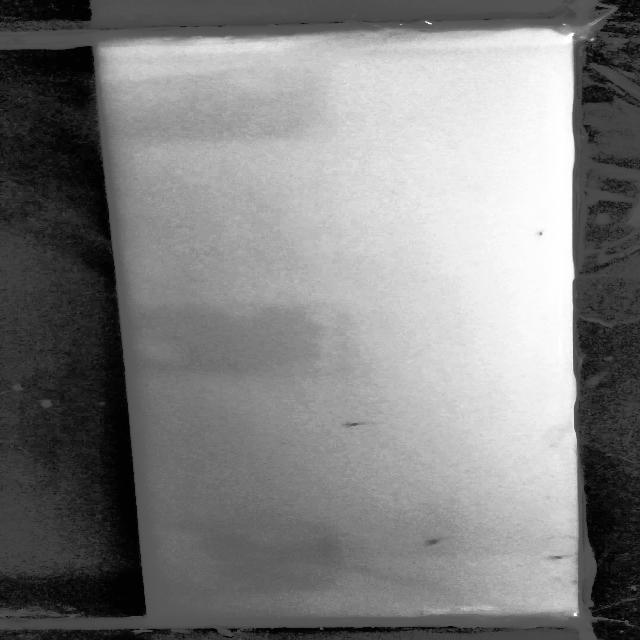shrimp: (417, 529, 451, 553), (538, 545, 574, 567), (335, 416, 375, 433), (529, 219, 551, 241)
